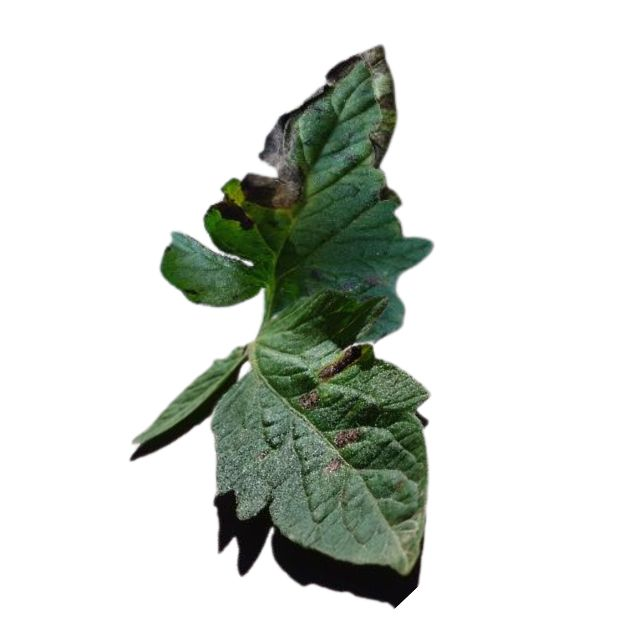Early_blight: (241, 85, 332, 212), (327, 42, 398, 168), (210, 193, 256, 234), (319, 343, 363, 381), (340, 271, 389, 296), (333, 427, 362, 448), (297, 389, 320, 412), (323, 458, 342, 474)
